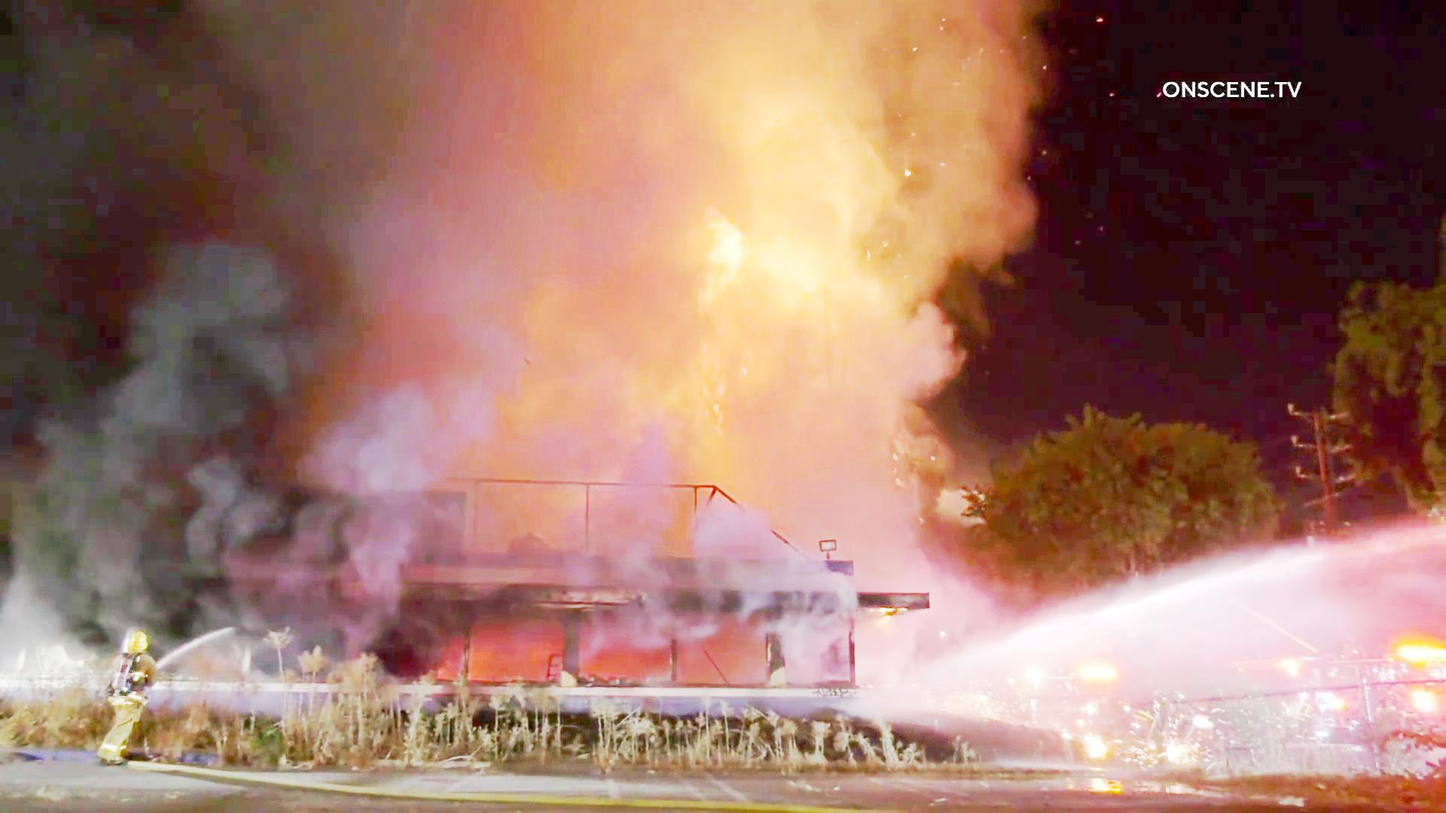fire: (662, 174, 778, 321)
smoke: (24, 2, 652, 559), (0, 219, 296, 627), (296, 333, 567, 643)
